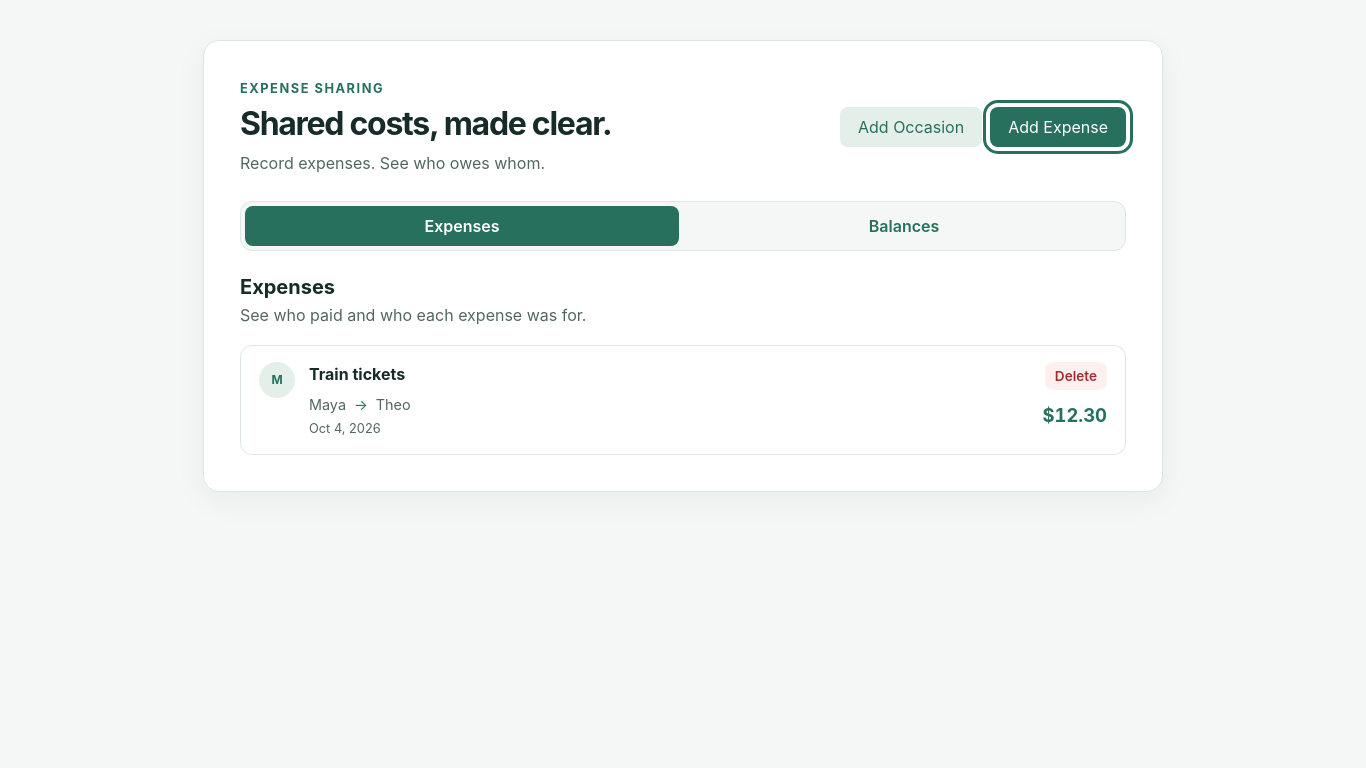
expense fails offline, allows Escape, and never writes on reconnect
The width and height of the screenshot is (1366, 768).
Expected: the heading "Train tickets" is shown, [309,362,405,386]
Click the button "Add Expense" at (1058, 127), box [990,107,1126,147]
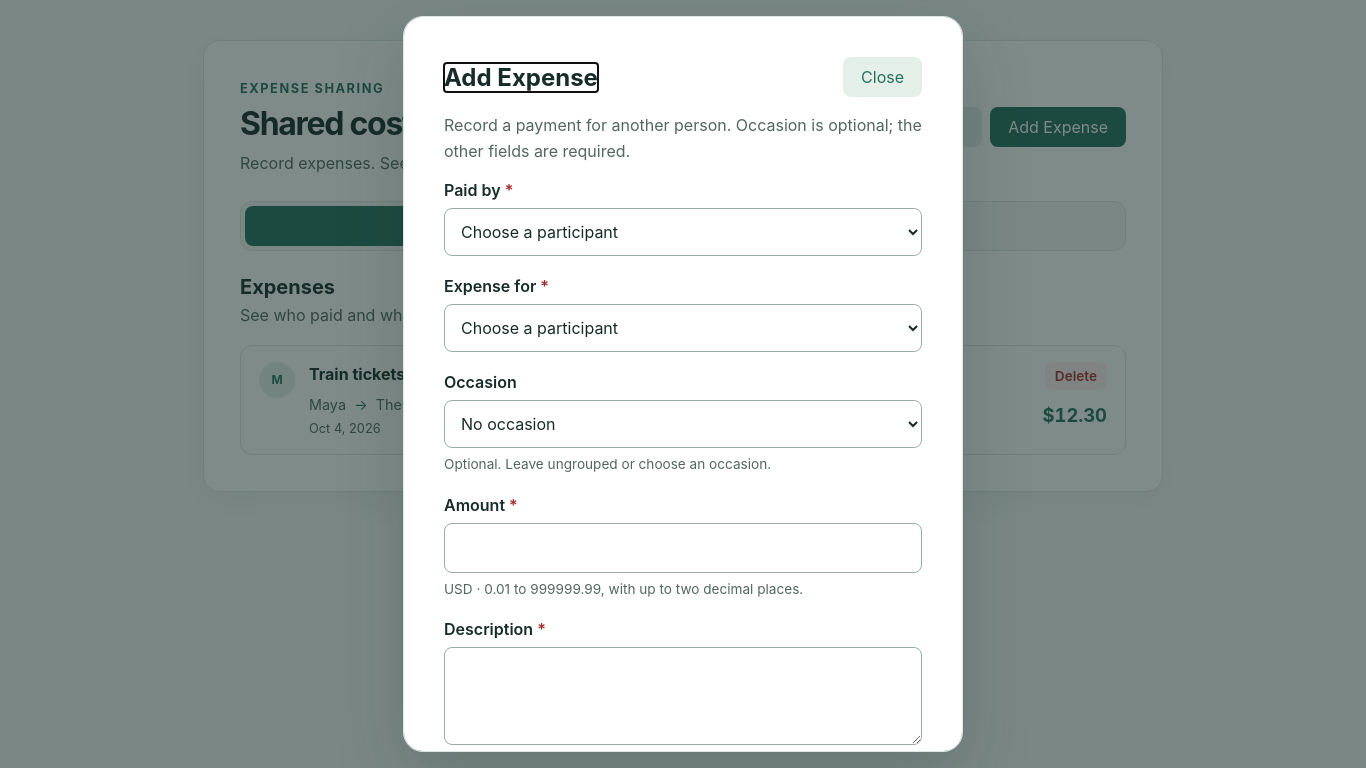
Select "Maya" in the dropdown labelled "Paid by *" at (683, 232), box [444,208,922,256]
Select "Theo" in the dropdown labelled "Expense for *" at (683, 328), box [444,304,922,352]
Select "Dinner" in the dropdown labelled "Occasion" at (683, 424), box [444,400,922,448]
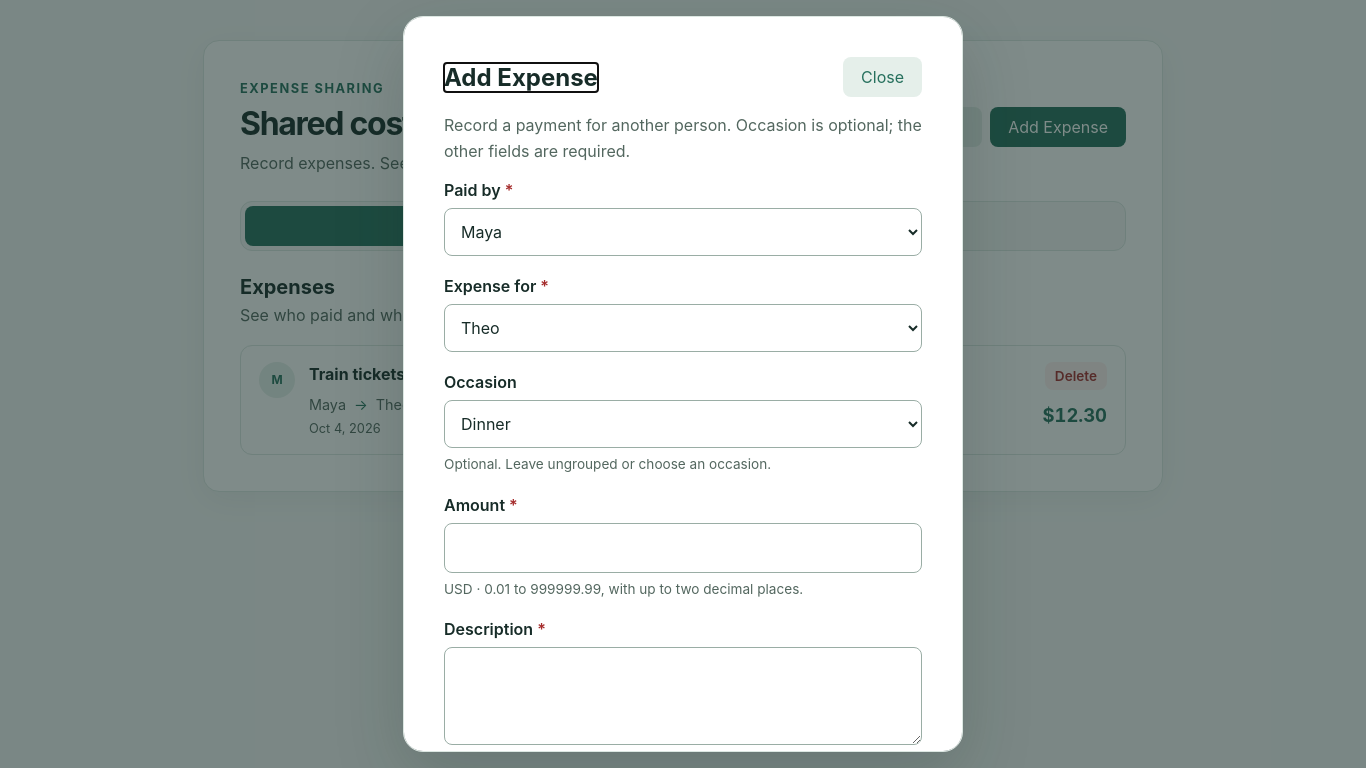
Type "12.30" into the field labelled "Amount *" at (683, 548), box [444,523,922,573]
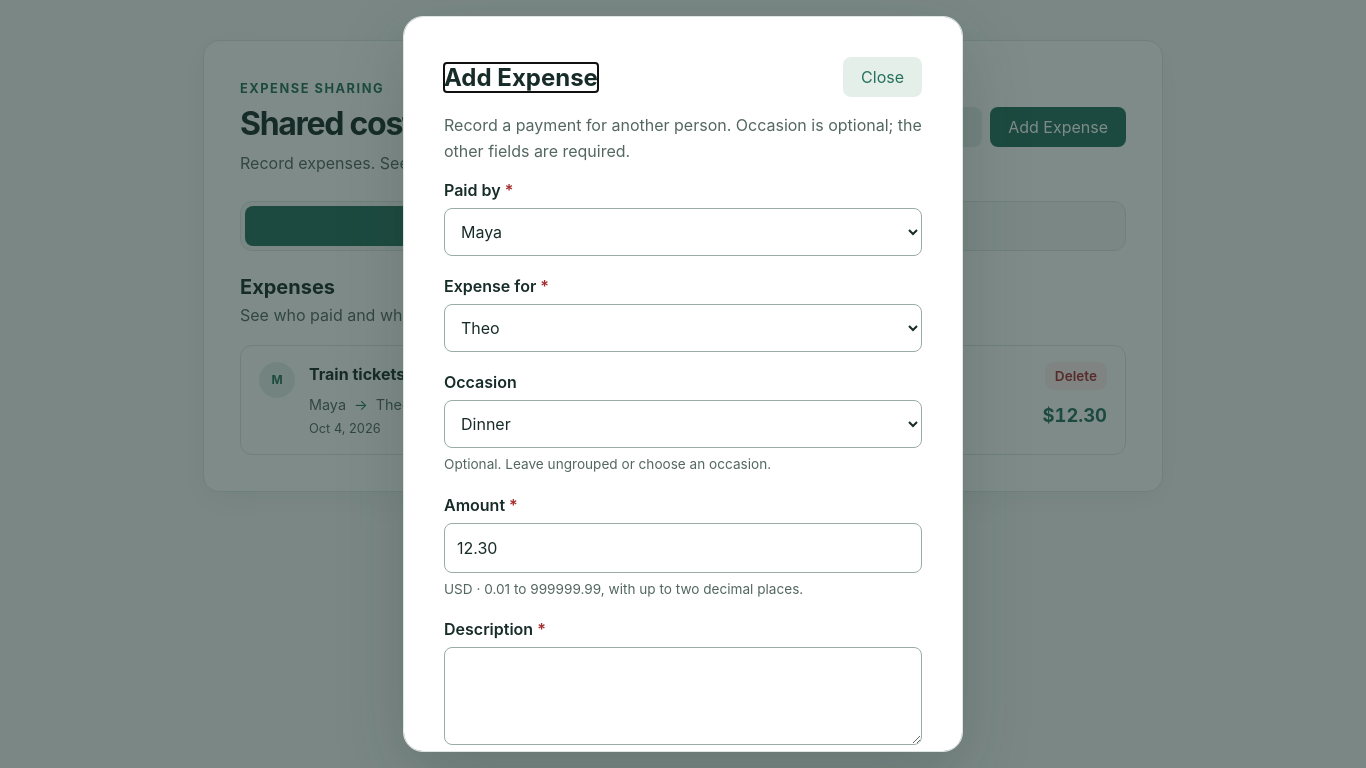
Type "Train tickets" into the text box labelled "Description *" at (683, 696), box [444,647,922,745]
(page scrolled)
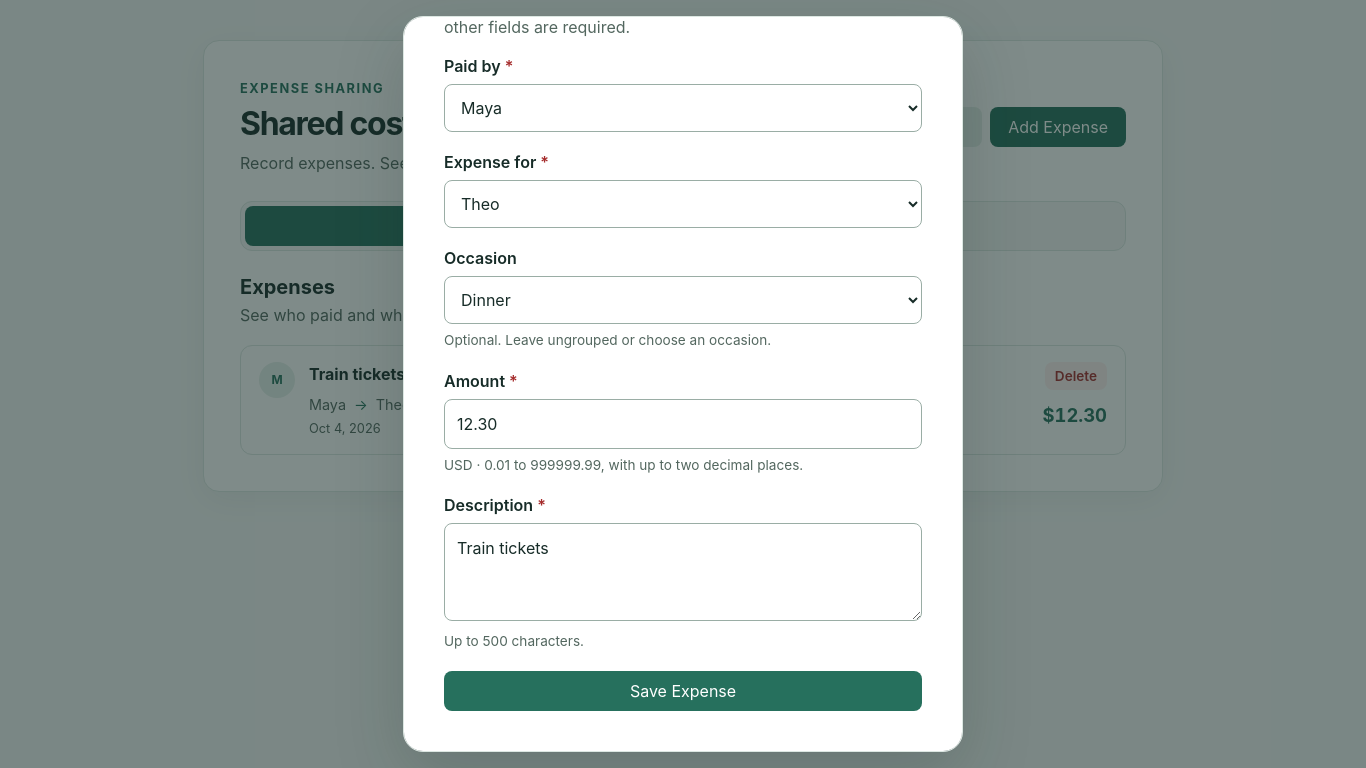
Click the button "Save Expense" at (683, 691), box [444,671,922,711]
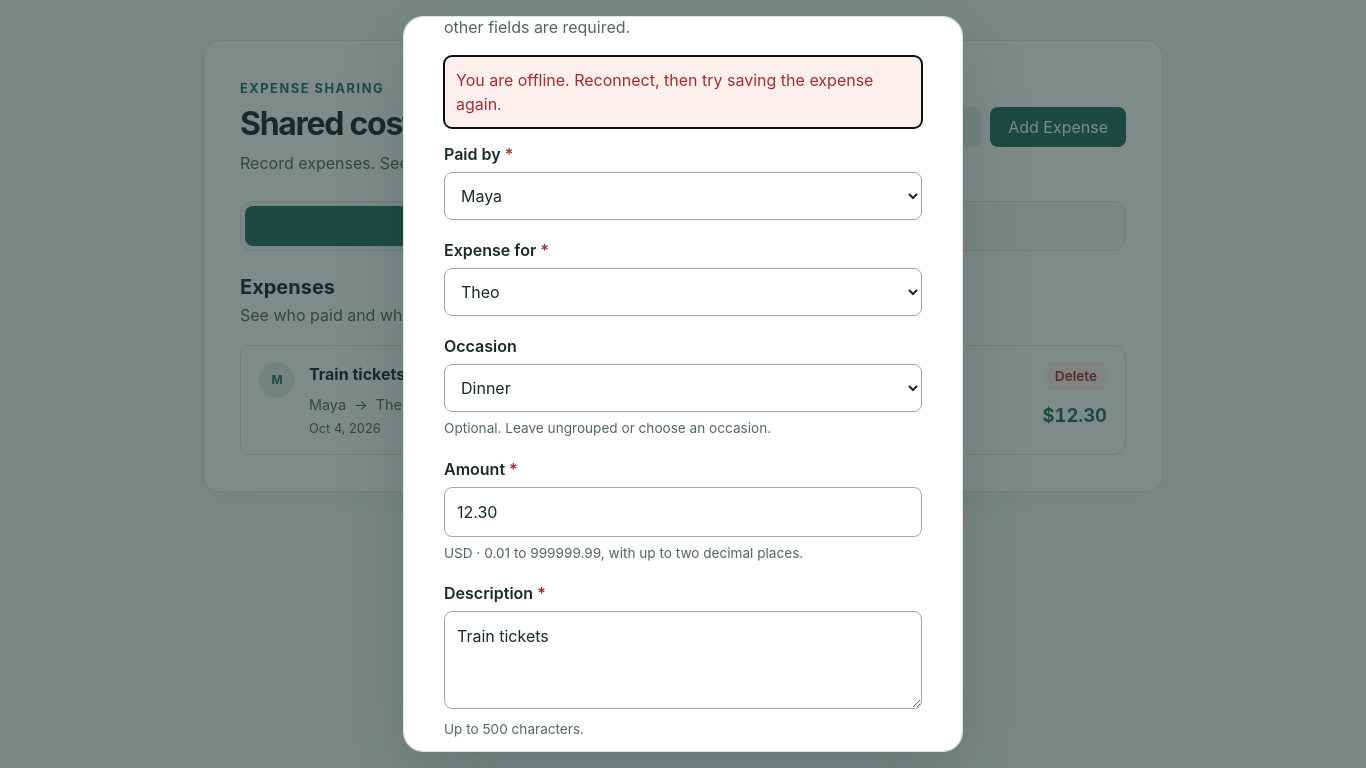
Result: the element named "Amount" is enabled at [444,144,922,752]
Result: the message shows "You are offline. Reconnect, then try" at [456,70,873,114]
Press Escape in the dialog "Add Expense", box [403,16,963,752]
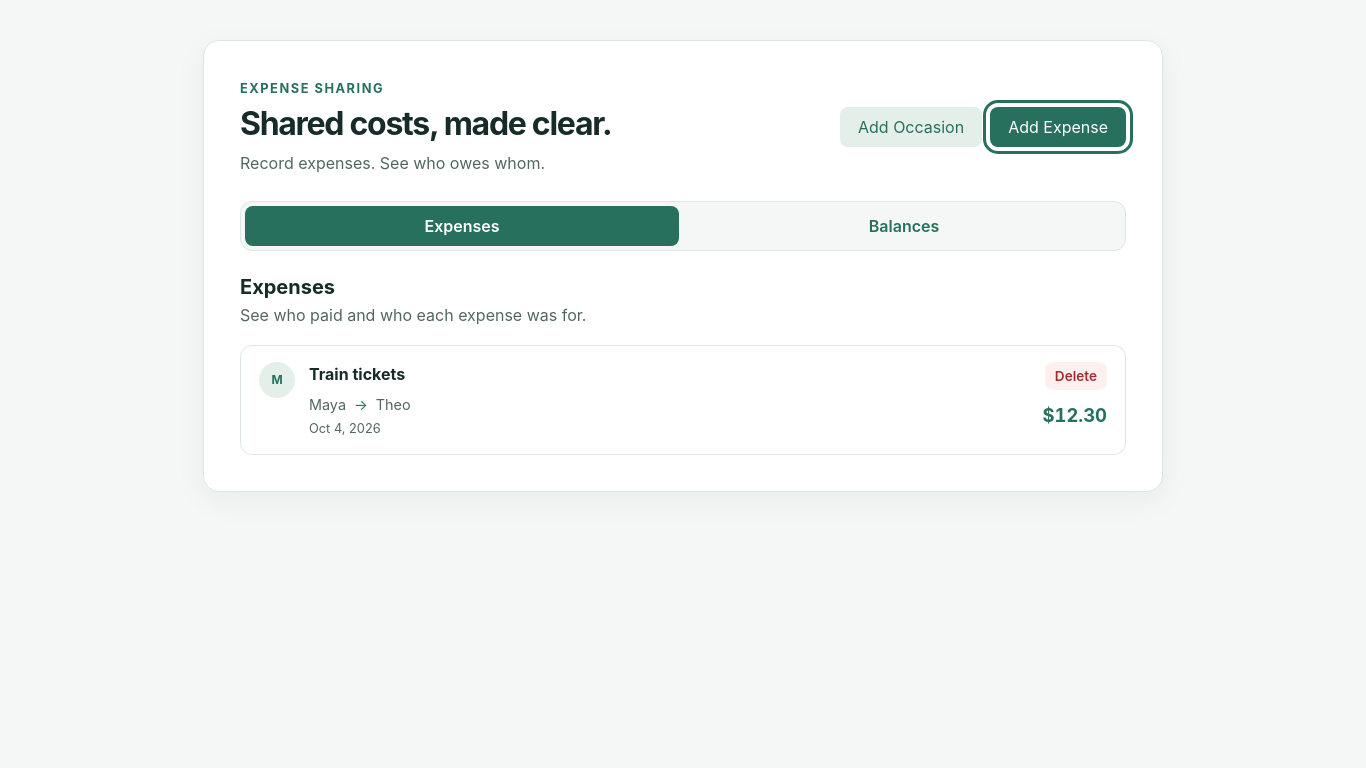
Result: the dialog is gone
